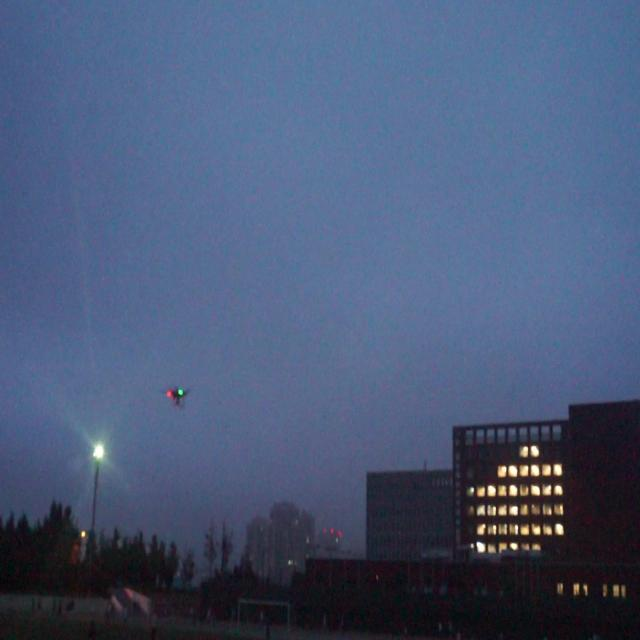drone: (165, 381, 190, 410)
